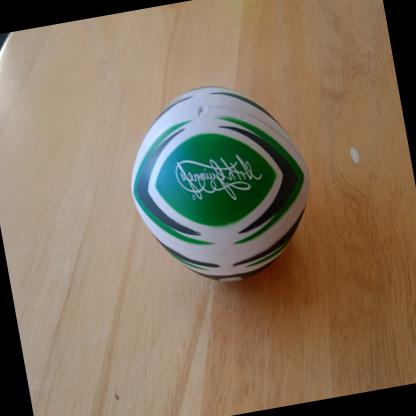Rugby: (112, 68, 328, 299)
